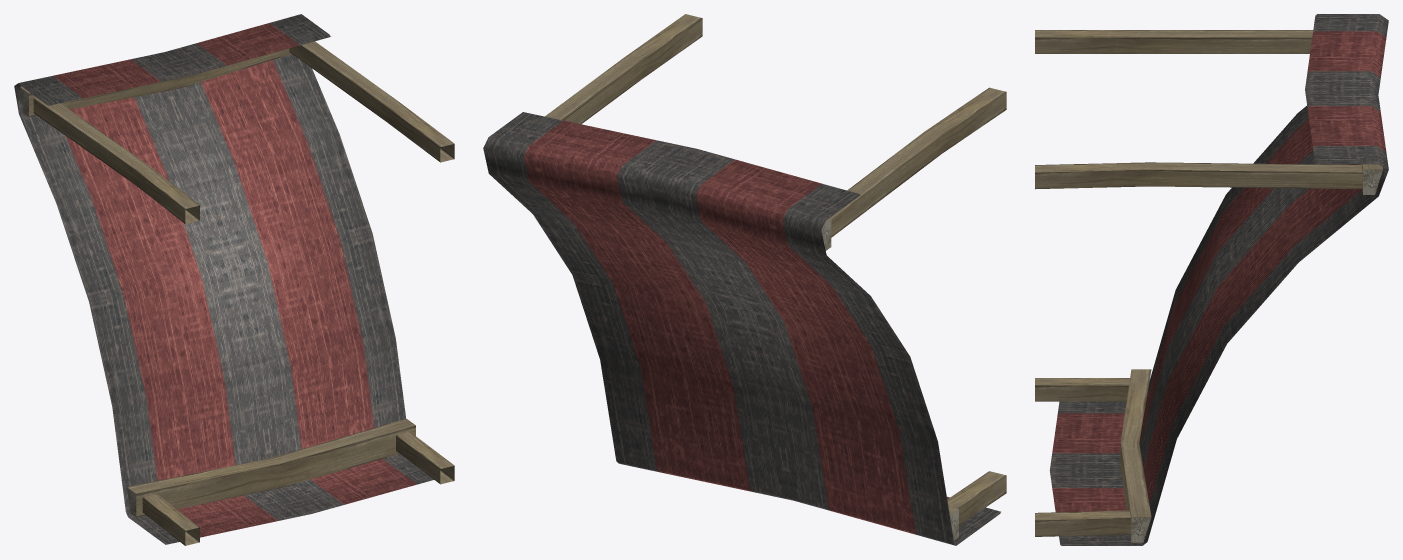
Rendered from Tent_Beach_B.fbx.
3 views of the same model, side by side, from view 1: azimuth 30°, elevation 25°; view 2: azimuth 150°, elevation 25°; view 3: azimuth 270°, elevation 25° (orthographic). The views are drawn at different scales.
Visible parts, largest first — view 1: Tent_Beach_B; view 2: Tent_Beach_B; view 3: Tent_Beach_B.
Part boxes in pixels (bbox=[...]): Tent_Beach_B: bbox=[14, 14, 454, 545]; Tent_Beach_B: bbox=[483, 14, 1006, 545]; Tent_Beach_B: bbox=[1035, 14, 1388, 545].
Bounding box in the file's own units: 3.8 × 4.54 × 3.81.
